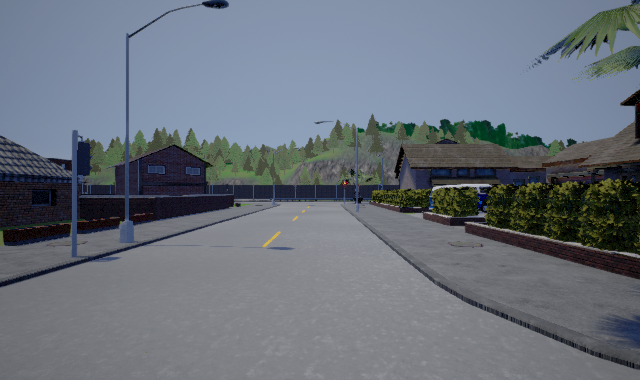vehicle: (429, 184, 492, 213)
